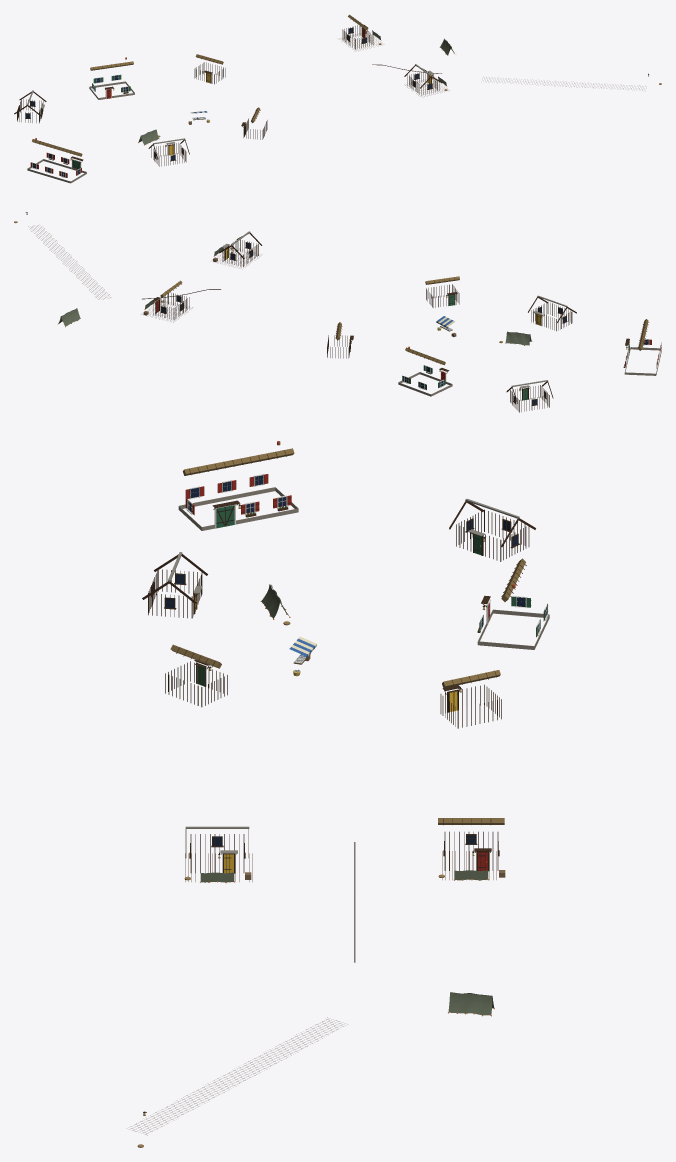
The model's file is SM_FishersCove_Detail_NoCol.fbx.
3 renders of one model, top to bottom at view 1: azimuth 30°, elevation 25°; view 2: azimuth 150°, elevation 25°; view 3: azimuth 270°, elevation 25°, orthographic. The views are drawn at different scales.
Parts seen in each view (by area): view 1: SM_FishersCove_Detail_NoCol; view 2: SM_FishersCove_Detail_NoCol; view 3: SM_FishersCove_Detail_NoCol.
Part boxes in pixels (<box>): SM_FishersCove_Detail_NoCol: <box>14,14,661,183</box>; SM_FishersCove_Detail_NoCol: <box>14,212,661,412</box>; SM_FishersCove_Detail_NoCol: <box>131,441,549,1147</box>.
Size of the model in its own units: 131 by 13.73 by 40.
